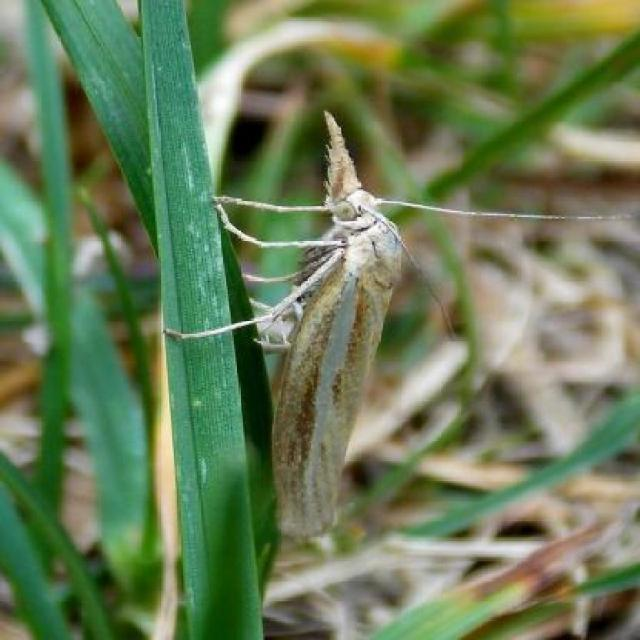stem-borer: (161, 101, 631, 538)
